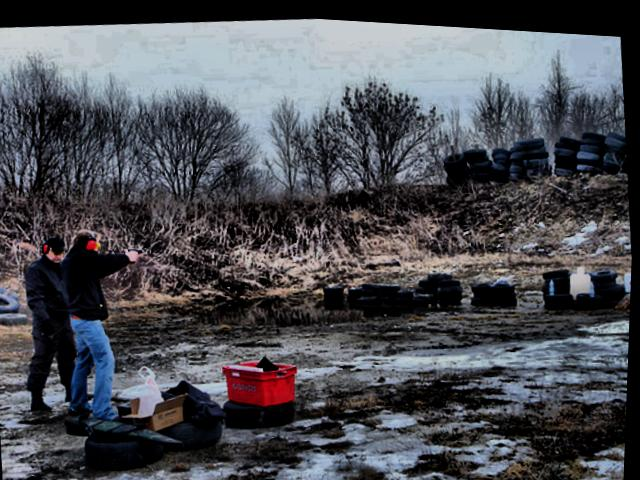pistol: (122, 244, 144, 263)
